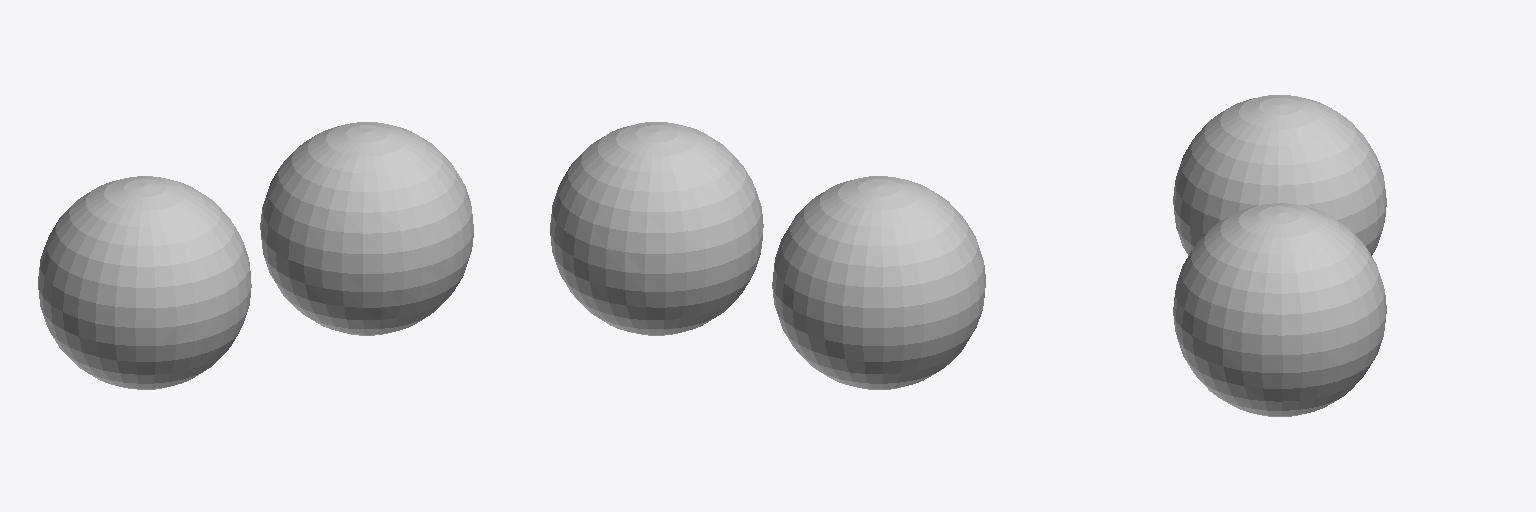
Rendered from ojosd1.obj.
3 views of the same model, side by side, from view 1: azimuth 30°, elevation 25°; view 2: azimuth 150°, elevation 25°; view 3: azimuth 270°, elevation 25° (orthographic).
Visible parts, largest first — view 1: Eyes_001; view 2: Eyes_001; view 3: Eyes_001.
Part boxes in pixels (left/top/right/bottom): Eyes_001: left=38, top=122, right=473, bottom=389; Eyes_001: left=550, top=122, right=985, bottom=389; Eyes_001: left=1173, top=95, right=1386, bottom=416.
Size of the model in its own units: 0.166 by 0.0756 by 0.0754.